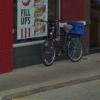Bicycle: (30, 13, 94, 70)
